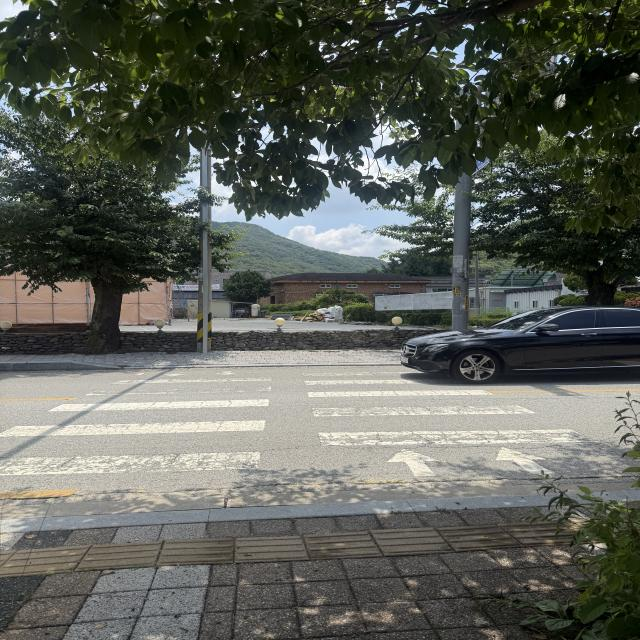car: (409, 305, 636, 385)
